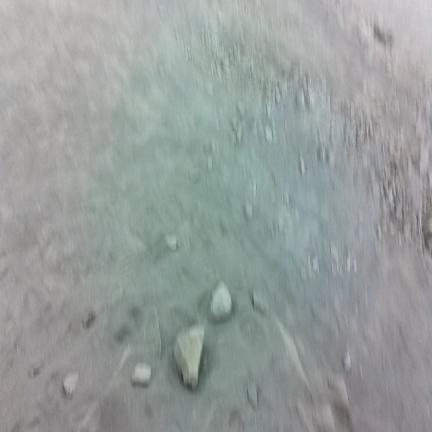Rock: (274, 316, 309, 388), (174, 325, 204, 388), (144, 307, 161, 358), (328, 374, 349, 411), (211, 283, 231, 320), (296, 401, 316, 431), (316, 404, 335, 431), (132, 363, 150, 386), (63, 371, 78, 397), (418, 145, 430, 177), (253, 292, 269, 315), (231, 117, 243, 144), (247, 381, 258, 410), (423, 217, 432, 249), (83, 309, 95, 329), (165, 235, 179, 251), (29, 363, 43, 378), (330, 242, 339, 262), (343, 350, 351, 372), (189, 168, 200, 183), (244, 201, 253, 219), (265, 125, 273, 143), (328, 150, 336, 168), (424, 254, 431, 274), (299, 155, 305, 175), (238, 102, 245, 119), (236, 125, 242, 144), (312, 257, 319, 273), (266, 101, 272, 119), (231, 117, 238, 131), (158, 64, 165, 78), (284, 192, 290, 208), (352, 258, 358, 274), (307, 254, 311, 276), (331, 262, 338, 274), (272, 121, 276, 142), (301, 267, 307, 280), (275, 90, 280, 105), (377, 226, 382, 241), (207, 83, 213, 95), (231, 131, 236, 145), (338, 263, 343, 276), (208, 156, 212, 171), (347, 254, 350, 273), (429, 169, 431, 187)
